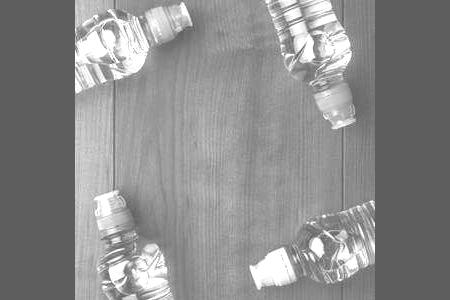bottle: (225, 0, 374, 139), (87, 184, 223, 300), (241, 188, 375, 300), (75, 0, 196, 98)
